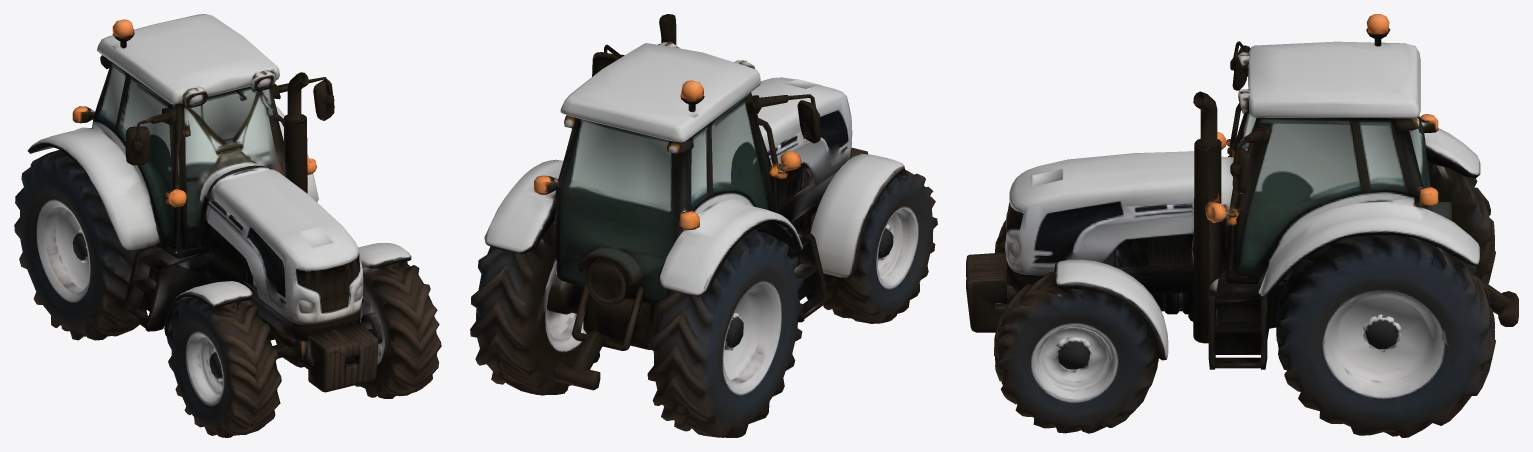
The model's file is a_tractor_58a807c5_v1.glb.
3 views of the same model, side by side, from view 1: azimuth 30°, elevation 25°; view 2: azimuth 150°, elevation 25°; view 3: azimuth 270°, elevation 25° (orthographic). The views are drawn at different scales.
Parts seen in each view (by area): view 1: material; view 2: material; view 3: material.
Boxes of the visible parts, x1,y1,x2,y2 form: material: [14, 14, 441, 437]; material: [470, 14, 937, 437]; material: [966, 14, 1518, 437].
Size of the model in its own units: 0.9588 by 1.3 by 1.9.
Materials: 1 (1 with a texture image).
